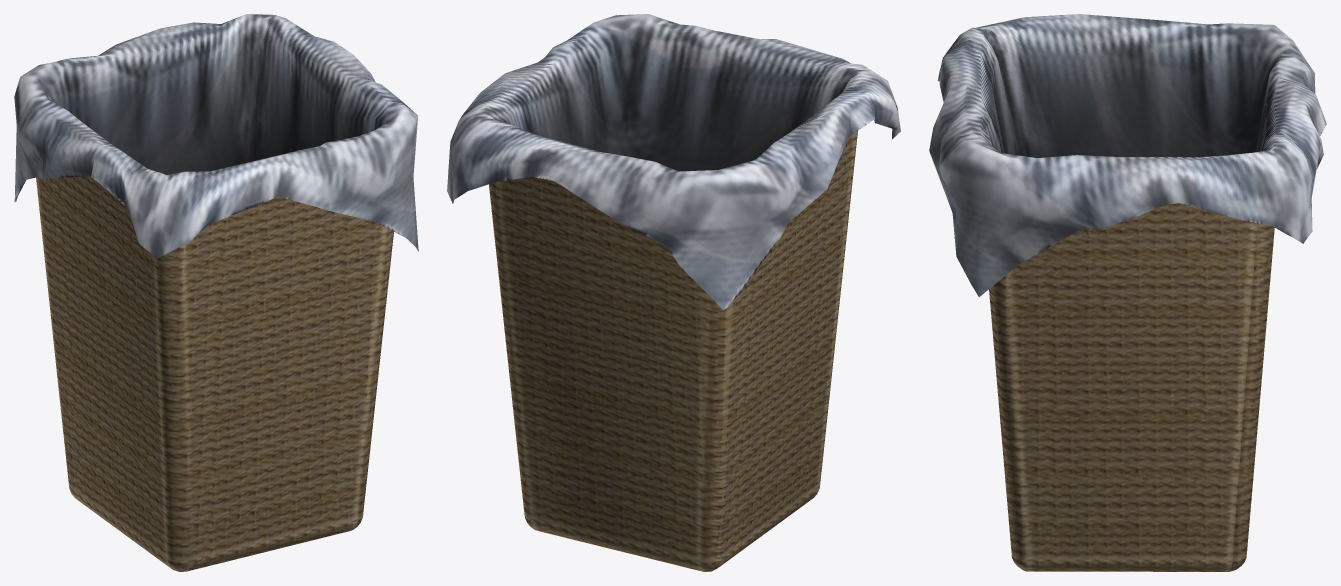
File: WasteBaskets.FBX
The picture shows the model from 3 angles, left to right: view 1: azimuth 30°, elevation 25°; view 2: azimuth 150°, elevation 25°; view 3: azimuth 270°, elevation 25°; orthographic projection. The views are drawn at different scales.
Parts seen in each view (by area): view 1: WasteBaskets; view 2: WasteBaskets; view 3: WasteBaskets.
Boxes of the visible parts, box(x1,y1,x2,y2) form: WasteBaskets: box(14, 14, 418, 571); WasteBaskets: box(447, 14, 900, 571); WasteBaskets: box(929, 14, 1326, 571).
Size of the model in its own units: 35.09 by 35.5 by 43.54.
1 material, 1 textured.
